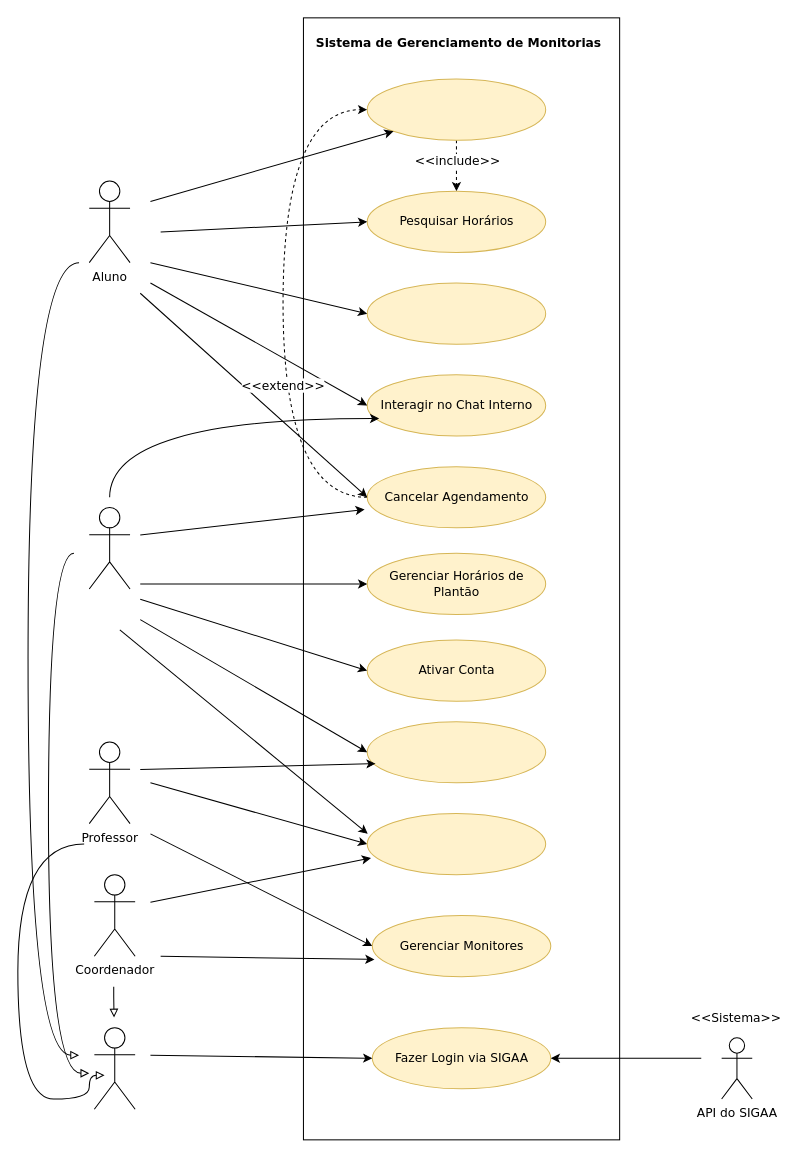
This 799x1158 diagram has some shape labels left out. The shapes that lost their labels are listed below. From the top down, each one's box as (x1, y1, x2, y2) in pixels, then its label:
(366, 78, 546, 140): Agendar Atendimento
(366, 282, 546, 344): Baixar Materiais
(88, 506, 130, 589): Monitor
(366, 721, 546, 783): Upload de Materiais
(366, 812, 546, 875): Visualizar Dashboards
(93, 1027, 135, 1109): Usuário
